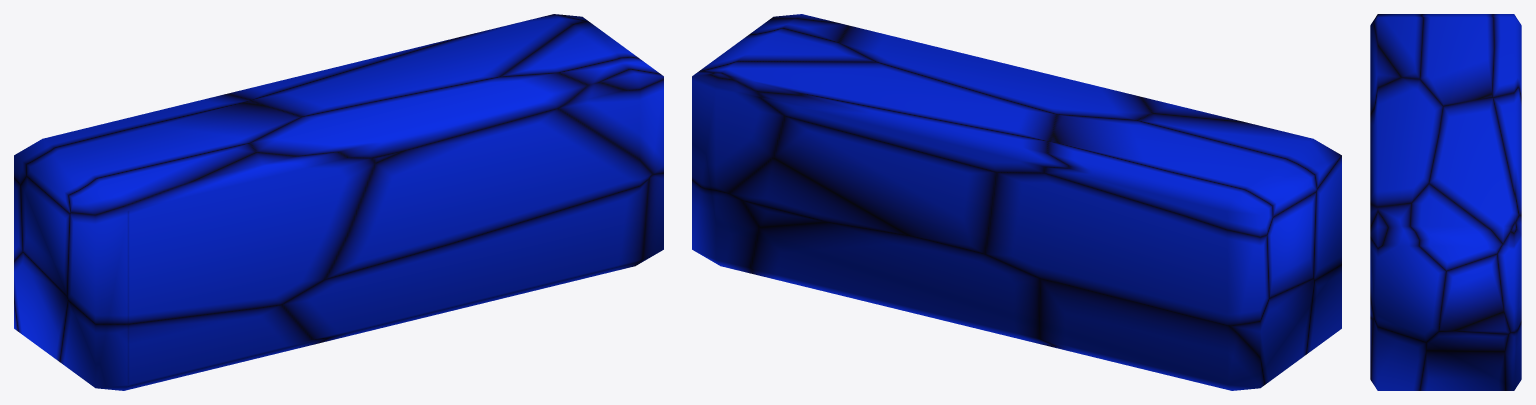
File: Brick_03_1hit.obj
3 views of the same model, side by side, from view 1: azimuth 30°, elevation 25°; view 2: azimuth 150°, elevation 25°; view 3: azimuth 270°, elevation 25° (orthographic). The views are drawn at different scales.
Visible parts, largest first — view 1: Cube_Paddle; view 2: Cube_Paddle; view 3: Cube_Paddle.
Part boxes in pixels (x1=…): Cube_Paddle: x1=14, y1=14, x2=663, y2=390; Cube_Paddle: x1=692, y1=14, x2=1341, y2=390; Cube_Paddle: x1=1370, y1=14, x2=1521, y2=390.
Bounding box in the file's own units: 7.25 × 2.34 × 2.
Materials: 1 (1 with a texture image).
